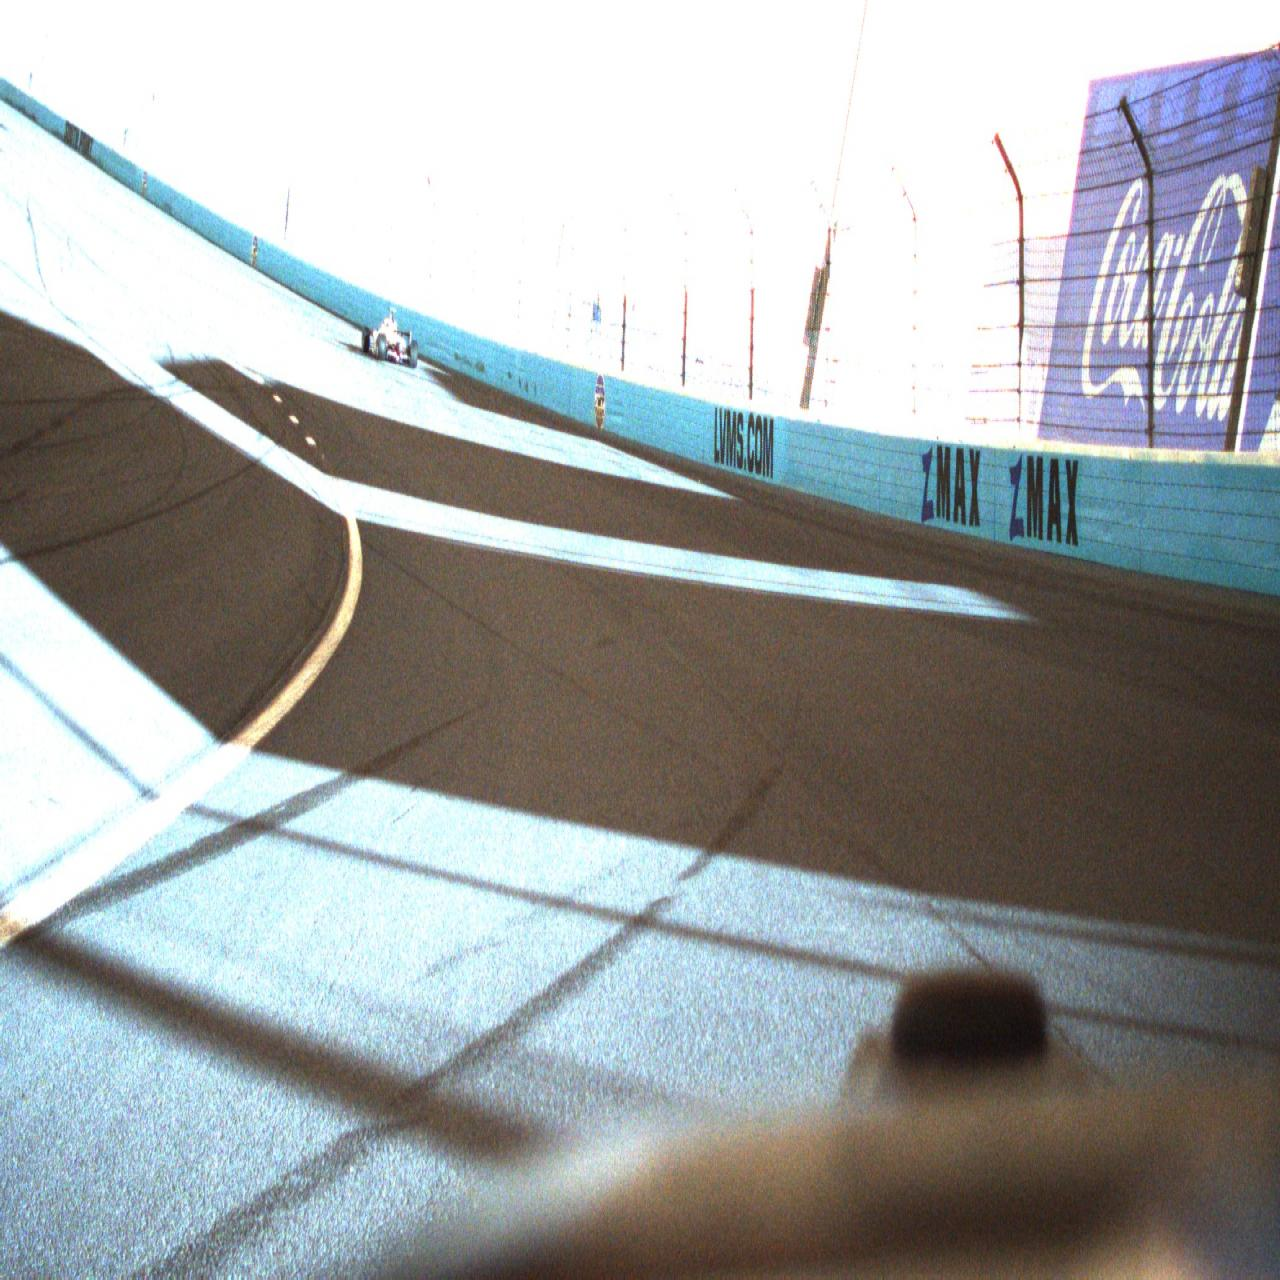AV: (362, 307, 418, 368)
Wheel: (376, 333, 386, 361), (408, 341, 418, 367), (362, 326, 369, 353)
